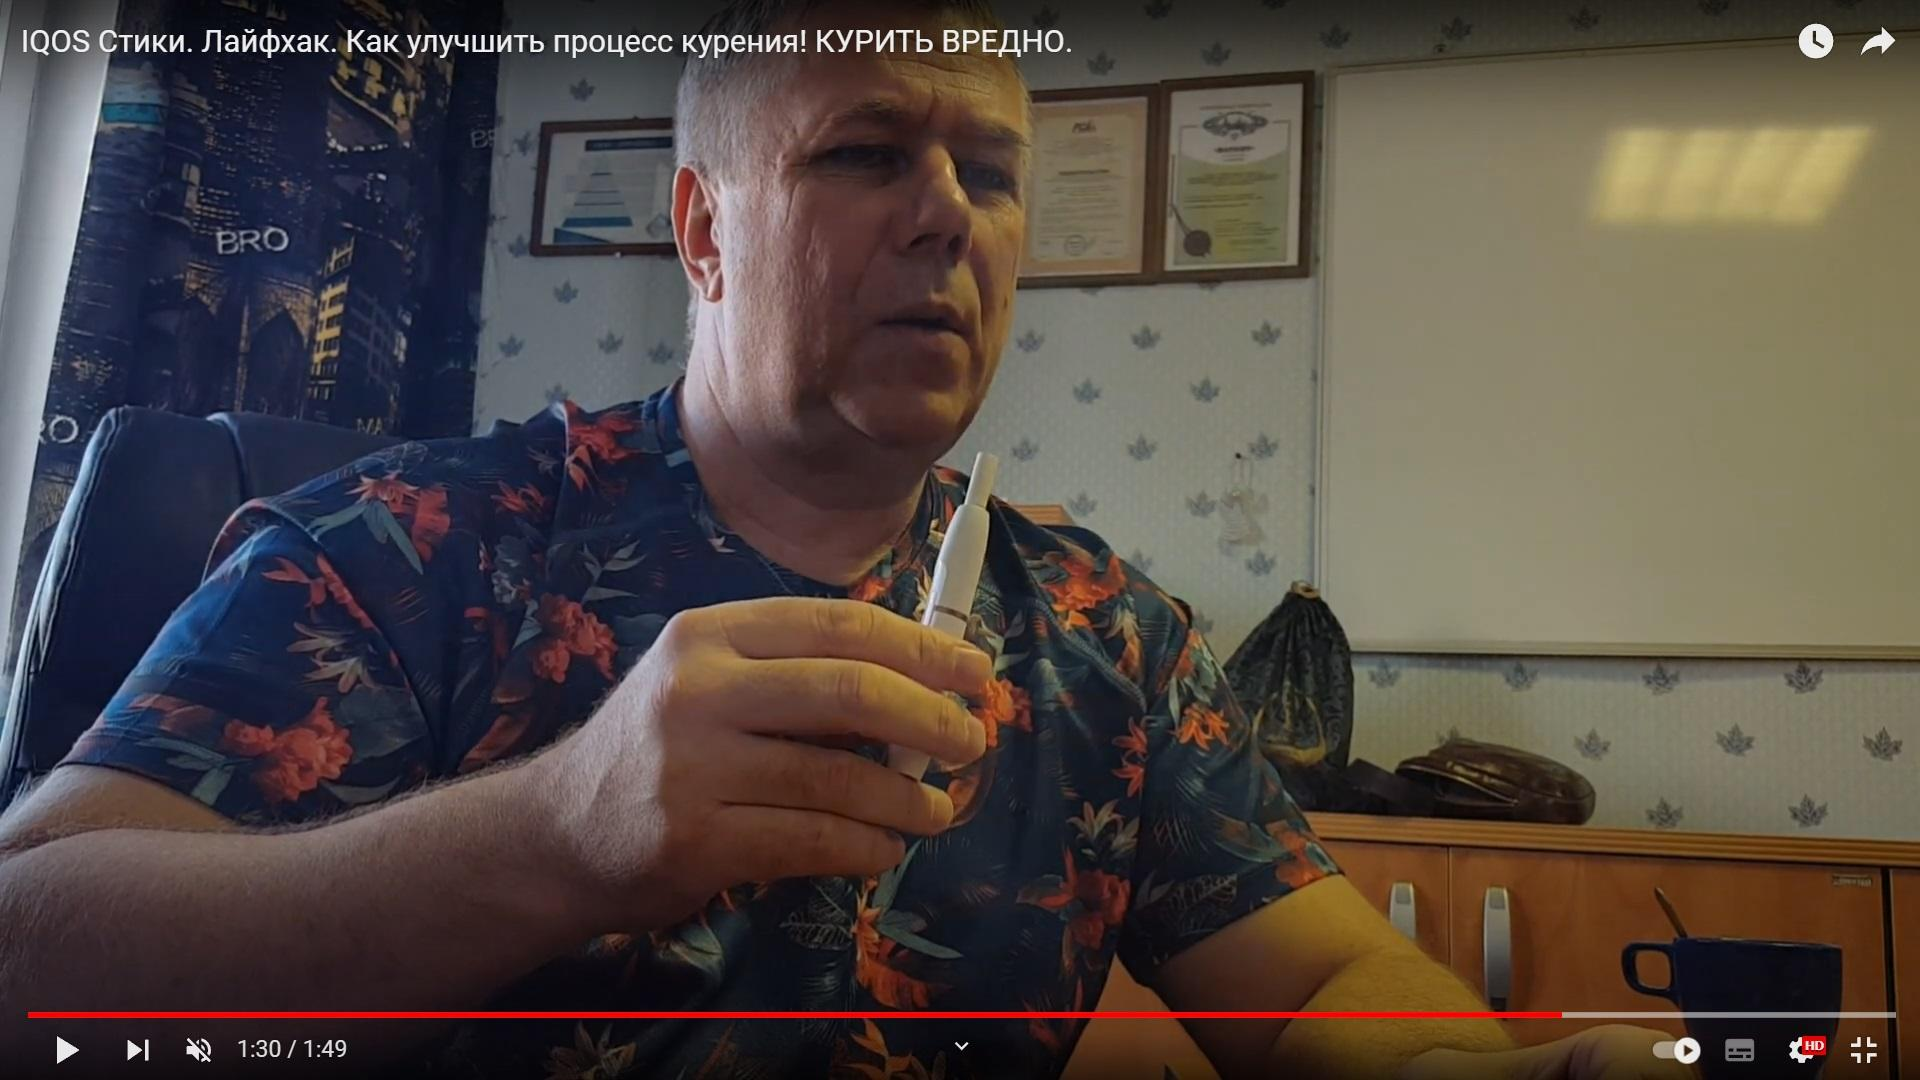iqos: (922, 452, 1000, 638)
